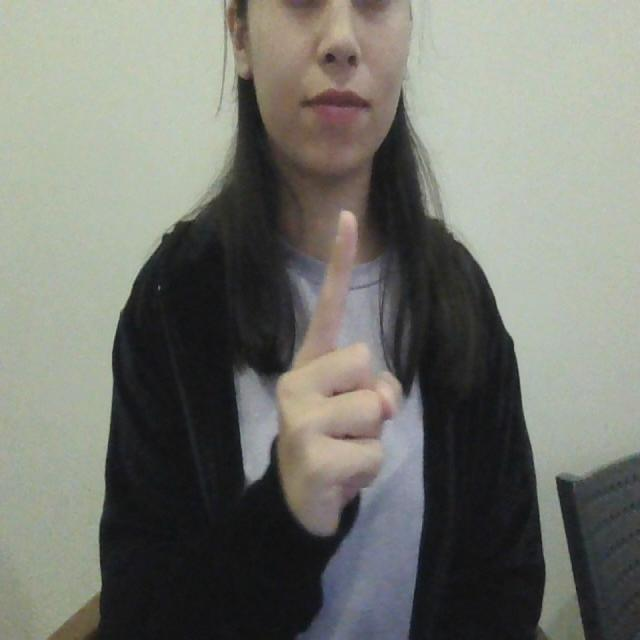Hayir: (270, 206, 409, 532)
